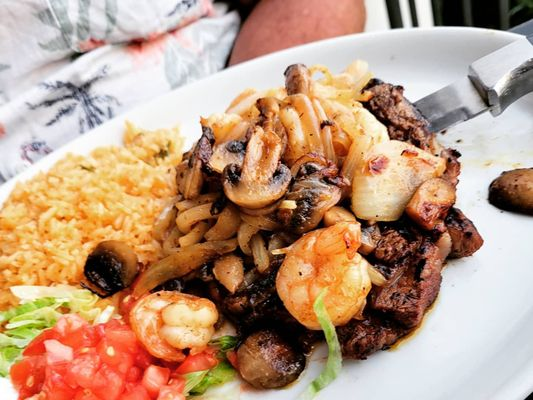burger: (411, 39, 533, 134)
